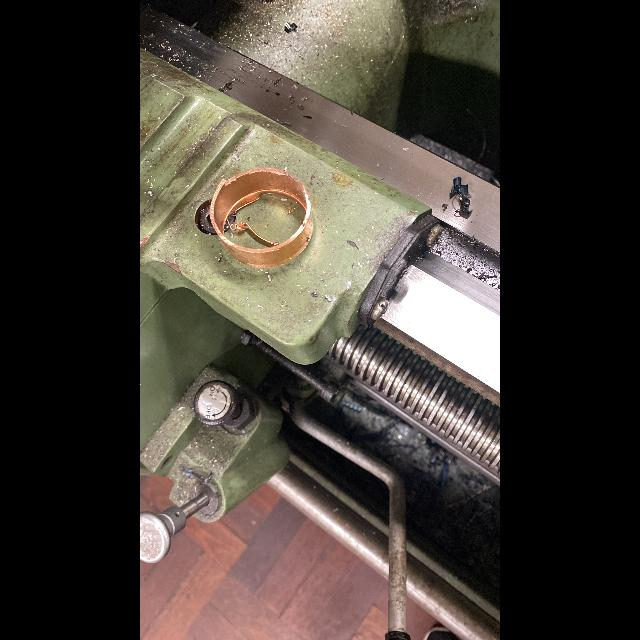Copper: (210, 168, 313, 266)
